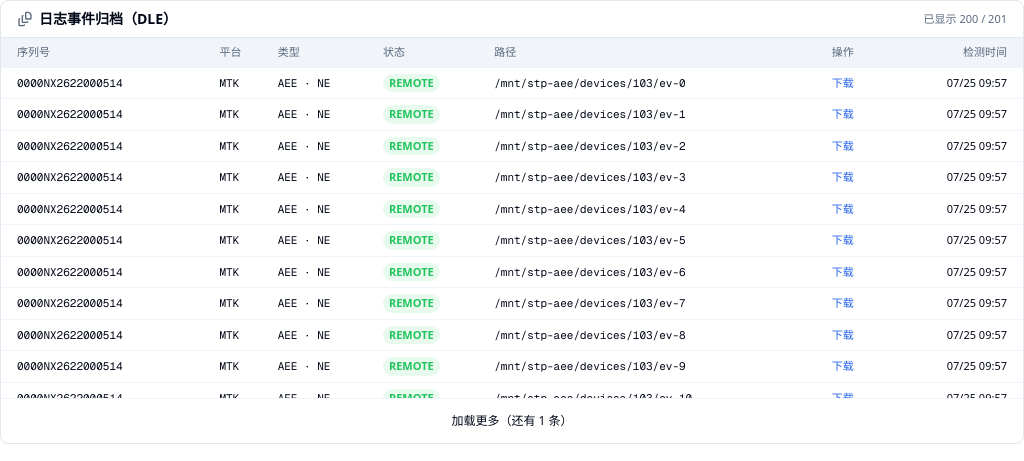
Test: LogEventsCard (#529) › 超过单页时显示计数与「加载更多」，点击后放大窗口（#1194）
Expected: the text with test id "log-events-count" reads "已显示 200 / 201", [924, 11, 1007, 27]
Click the button "加载更多（还有 1 条）" at (512, 421), box [439, 405, 584, 437]
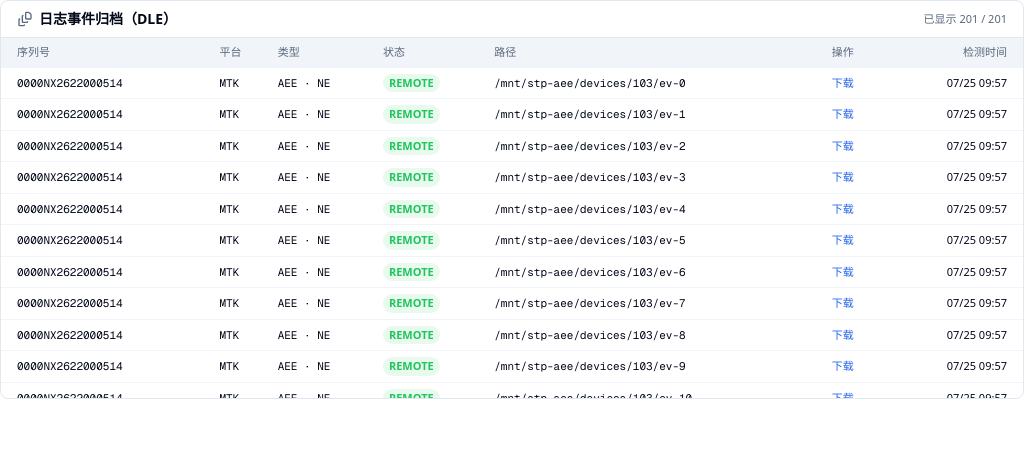
Expected: the button "加载更多" is gone
Expected: the text with test id "log-events-count" reads "已显示 201 / 201", [924, 11, 1007, 27]
